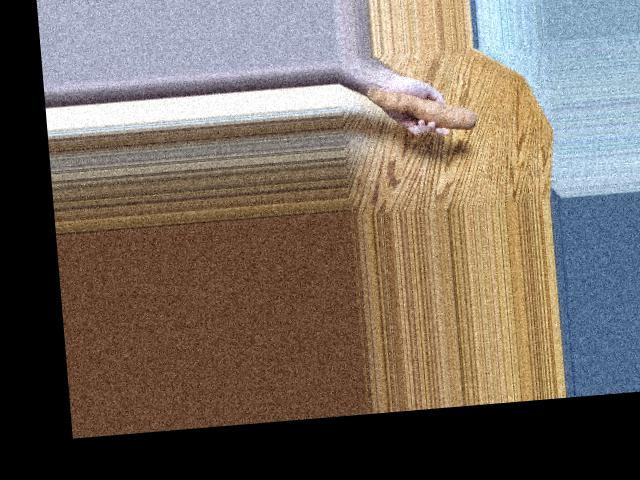sweet_potato: (369, 79, 479, 139)
